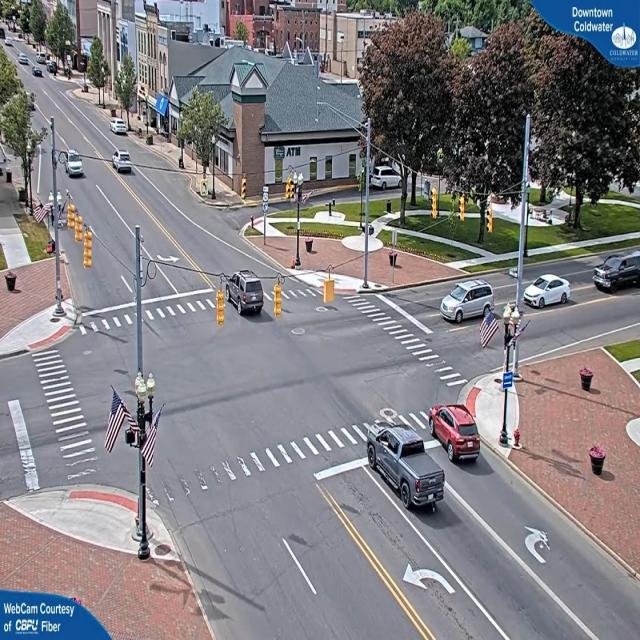car: (368, 425, 446, 509), (430, 407, 481, 461), (440, 278, 496, 327), (593, 252, 640, 295), (524, 272, 572, 308), (227, 270, 265, 315), (113, 152, 136, 175), (64, 152, 84, 178), (112, 120, 129, 136), (32, 68, 44, 78), (19, 54, 28, 66)
